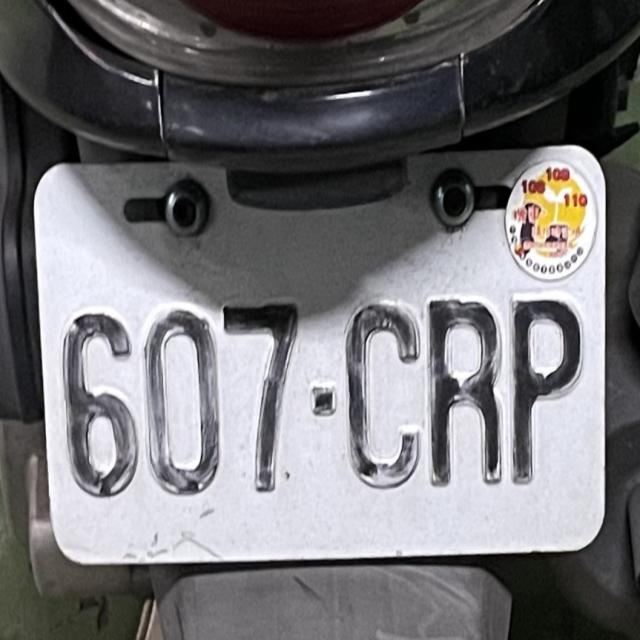license-plate: (23, 127, 618, 579)
